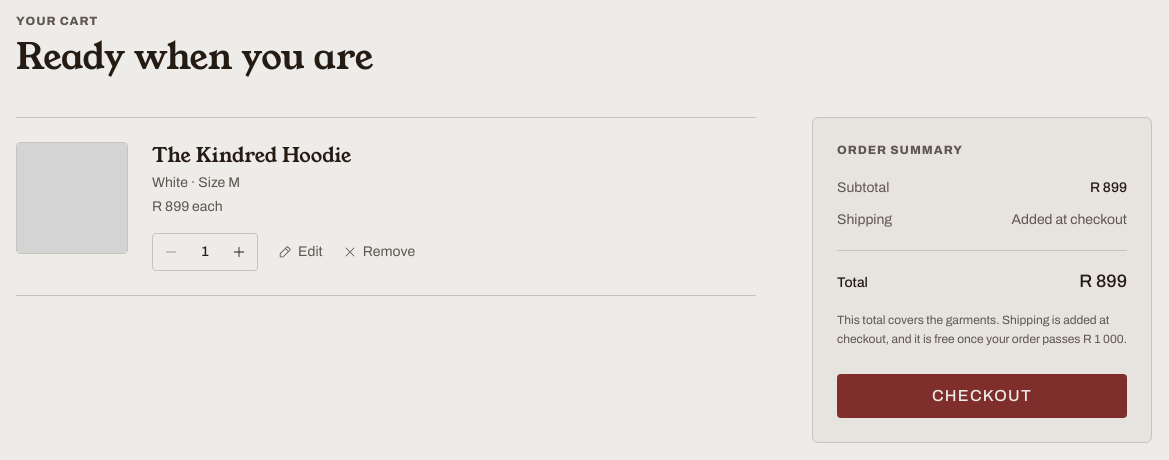
Test: CartView › steps quantity and reprices the line and the total
Expected: the button named "Decrease quantity of The Kindred Hoodie, White, size M" is disabled, [153, 234, 189, 270]
Step 1. Click the button named "Increase quantity of The Kindred Hoodie, White, size M" → (239, 252), box [221, 234, 257, 270]
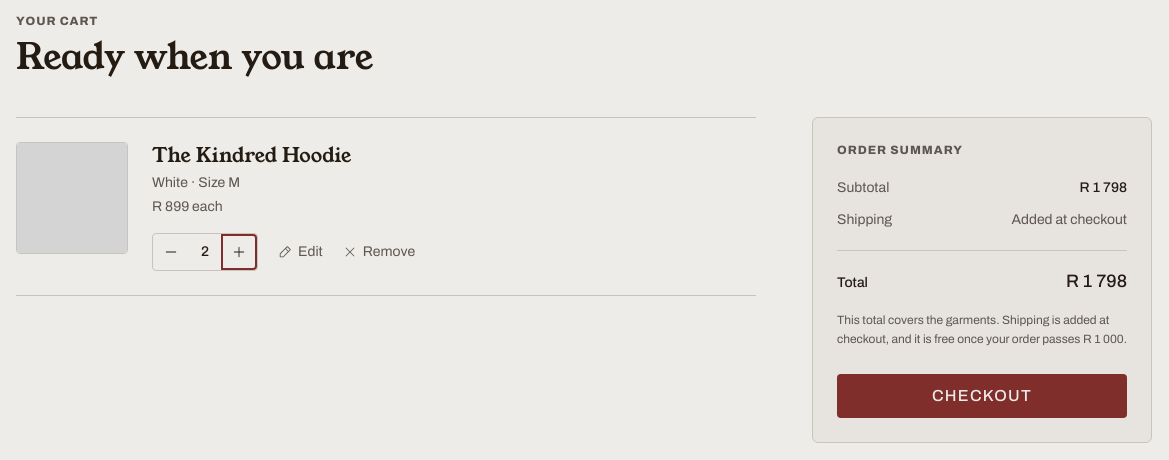
Expected: the text "2" is shown, [201, 244, 209, 259]
Step 2. Click the button named "Decrease quantity of The Kindred Hoodie, White, size M" → (171, 252), box [153, 234, 189, 270]
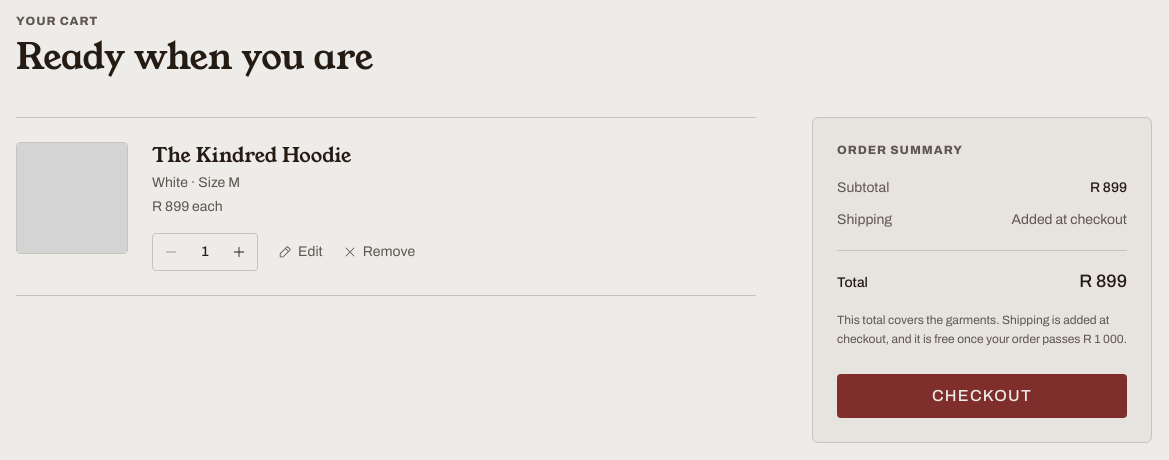
Expected: the text "1" is shown, [201, 244, 209, 259]
